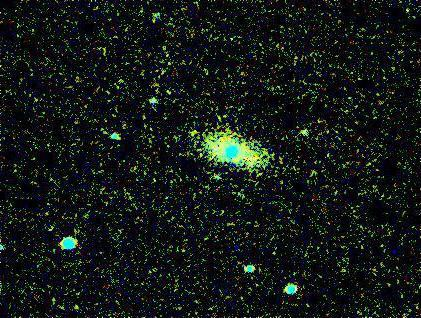star: (180, 124, 210, 154)
